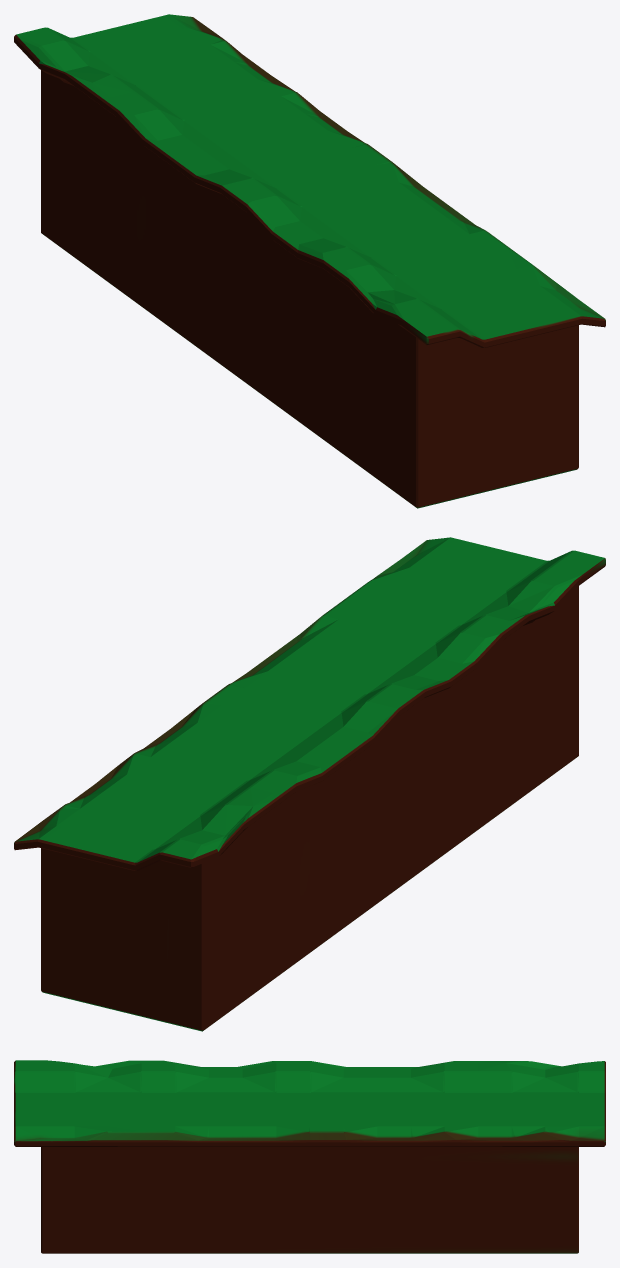
Rendered from Platform.fbx.
3 renders of one model, top to bottom at view 1: azimuth 30°, elevation 25°; view 2: azimuth 150°, elevation 25°; view 3: azimuth 270°, elevation 25°, orthographic. The views are drawn at different scales.
Visible parts, largest first — view 1: Cube; view 2: Cube; view 3: Cube.
Part boxes in pixels (x1=…): Cube: x1=14, y1=14, x2=605, y2=508; Cube: x1=14, y1=537, x2=605, y2=1031; Cube: x1=14, y1=1060, x2=605, y2=1253.
Bounding box in the file's own units: 220 × 221 × 880.
